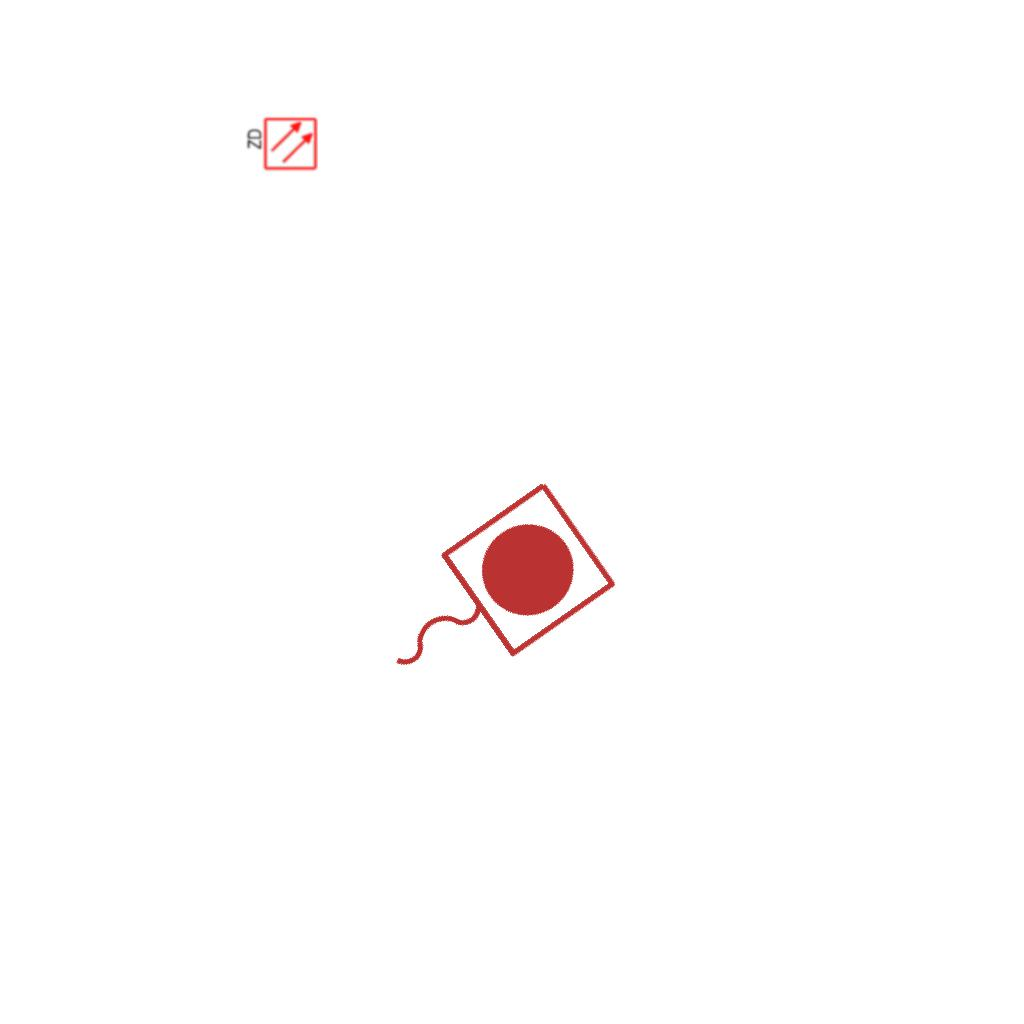ZD_Melder_in_Zwischendecke_mit_Revisionsoeffnung_mind_40_x_40_cm: (244, 116, 318, 173)
Zugtaster: (344, 468, 628, 726)
